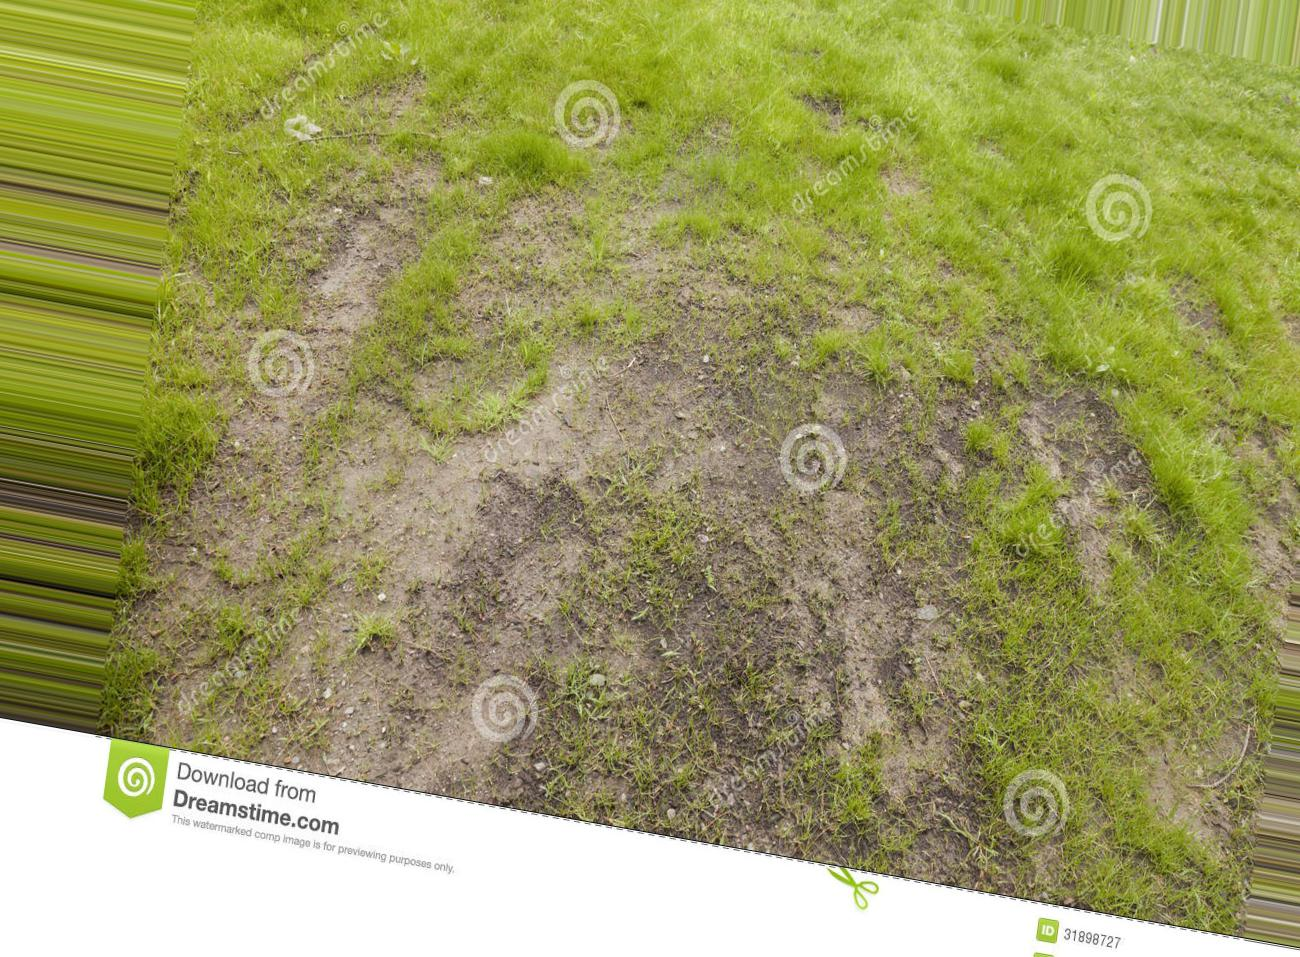patch: (822, 503, 915, 692), (445, 438, 562, 568), (315, 543, 382, 728), (470, 628, 560, 741), (630, 381, 747, 466), (337, 443, 425, 538), (725, 466, 775, 613)
